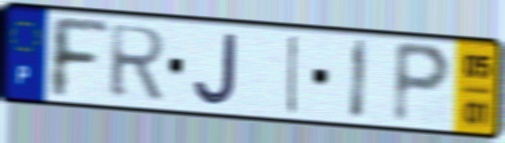F: (47, 12, 114, 102)
I: (347, 36, 371, 124), (285, 32, 302, 116)
J: (190, 30, 240, 108)
P: (389, 38, 455, 129)
R: (107, 22, 170, 102)
